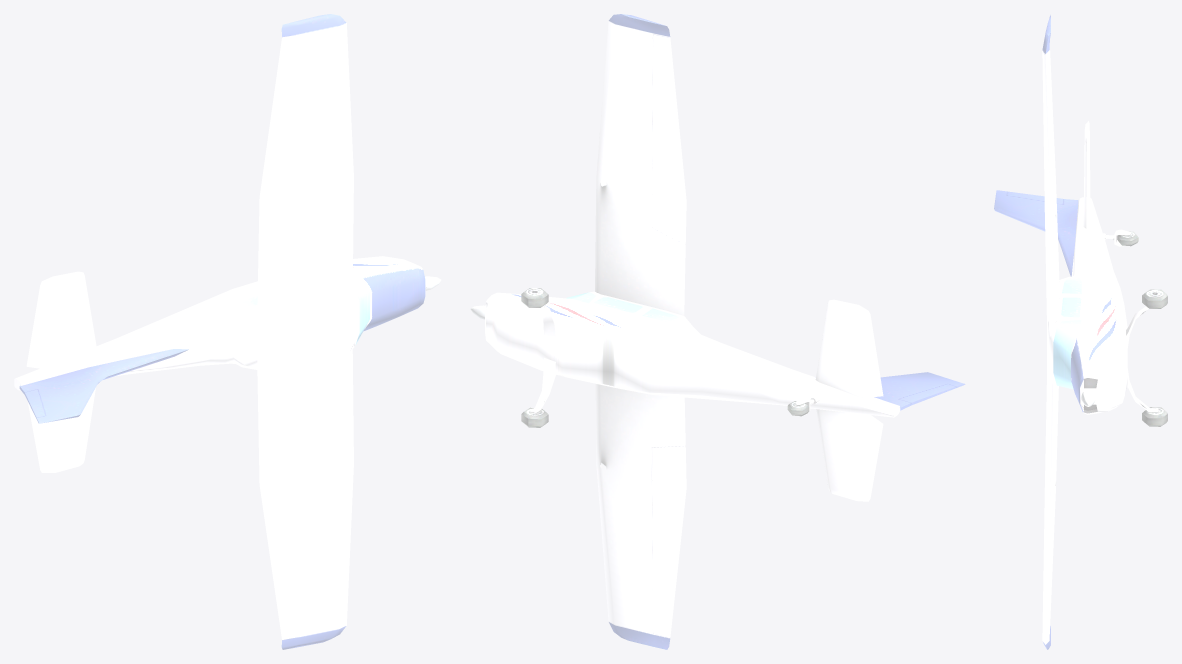
3 renders of one model, left to right at view 1: azimuth 30°, elevation 25°; view 2: azimuth 150°, elevation 25°; view 3: azimuth 270°, elevation 25°, orthographic. The views are drawn at different scales.
Parts seen in each view (by area): view 1: awionetka_airplane_0; view 2: awionetka_airplane_0; view 3: awionetka_airplane_0.
Part boxes in pixels (x1,y1,x2,y2): awionetka_airplane_0: (14,14,441,649); awionetka_airplane_0: (470,14,965,649); awionetka_airplane_0: (994,15,1167,649).
Bounding box in the file's own units: 0.3917 × 0.5205 × 0.1339.
1 material, 1 textured.
